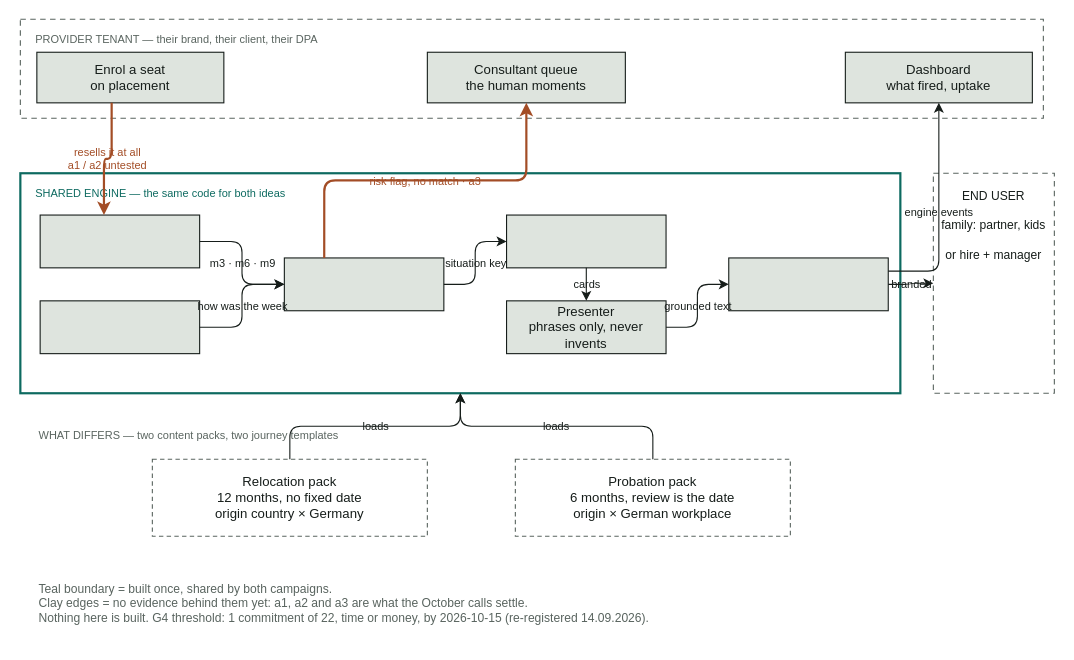
Image size: 1074x660. Some labels were removed from this diagram. The centre of each missing label's shape, as x and y in pixels:
"Card corpus human-authored" belongs at (585,241).
"Check-in loop one tap, weekly" belongs at (119,327).
"Delivery mail · chat" belongs at (808,284).
"Journey spine date-driven" belongs at (119,241).
"Situation router picks the key" belongs at (363,284).
